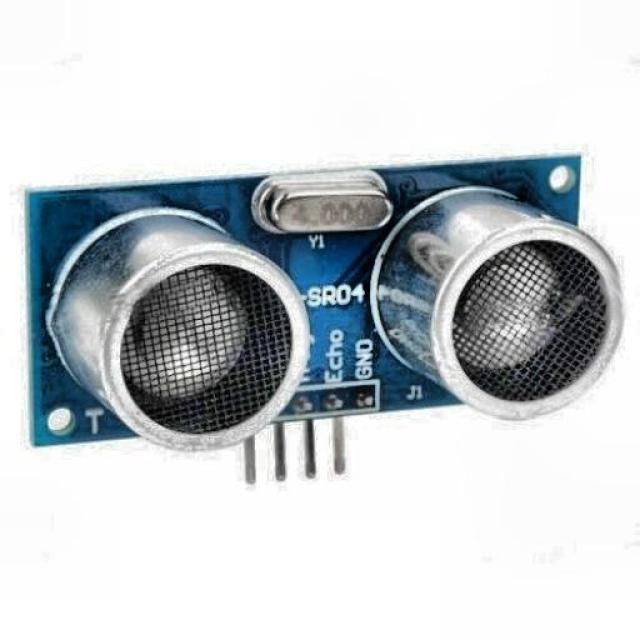Ultrasonic Sensor: (9, 128, 628, 518)
